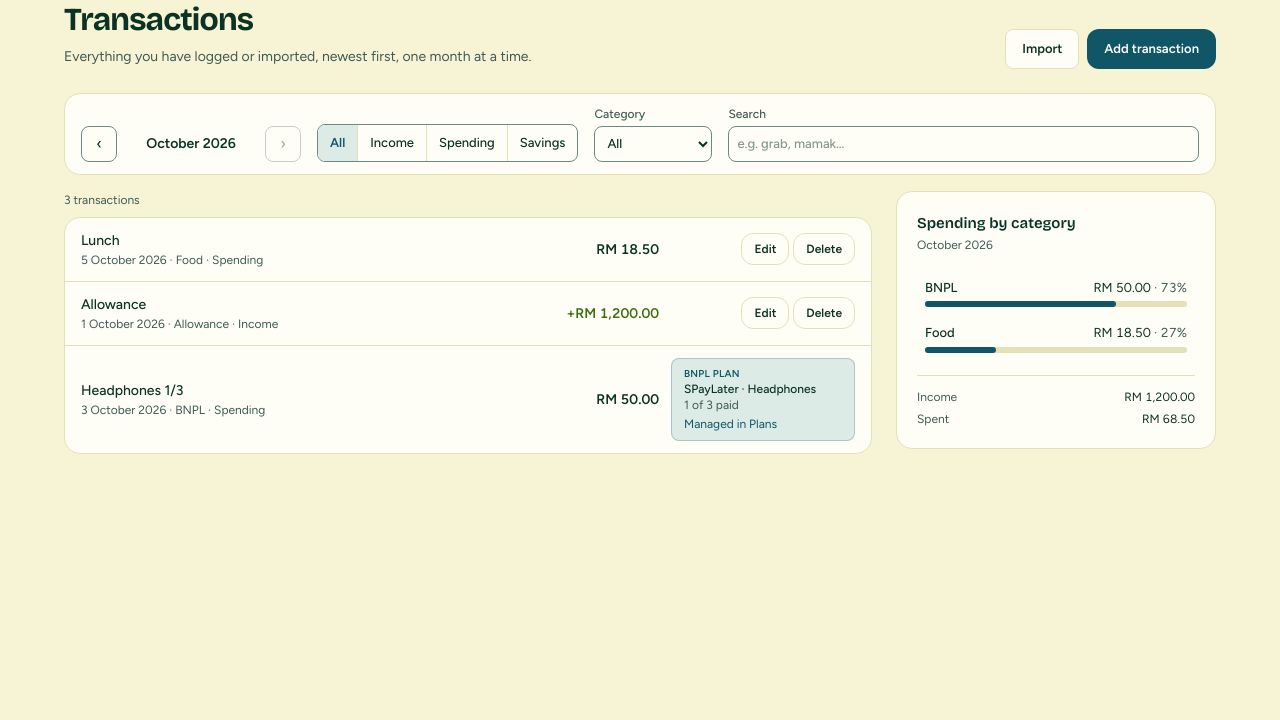
Test case: TransactionsScreen › keeps the form open and explains when the server refuses an edit
Expected: the text "Lunch" is shown, [81,232,120,249]
Click the button with aria-label "edit lunch": (765, 249) [742,233,789,265]
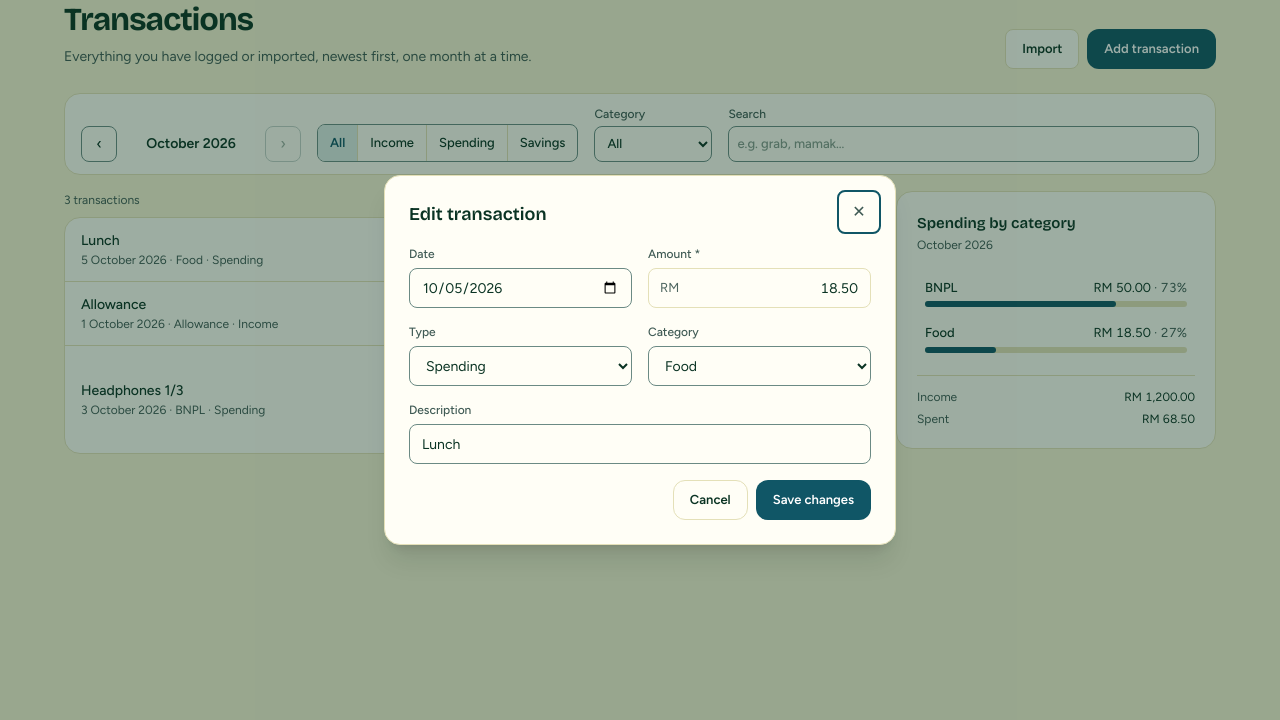
Click the button "Save changes": (813, 500) [756,480,871,520]
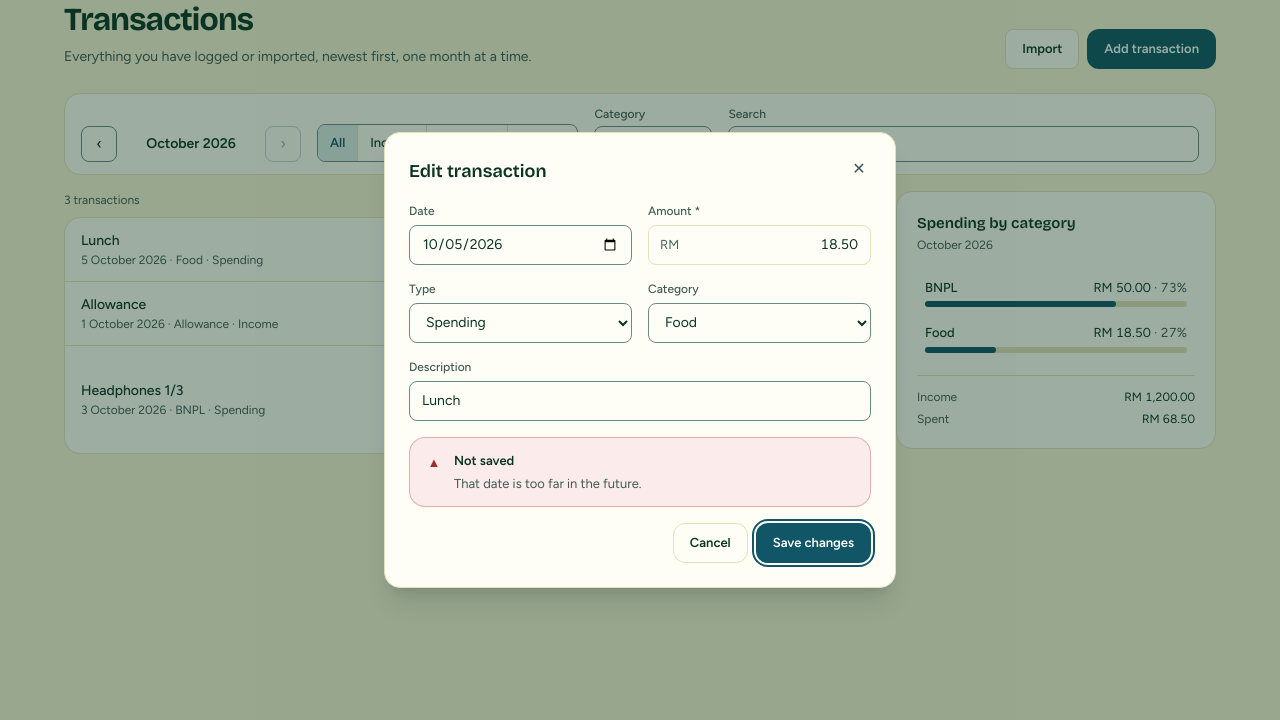
Expected: the button "Save changes" is enabled, [756,523,871,563]
Expected: the text "That date is too far in the future." is shown, [454,473,641,494]
